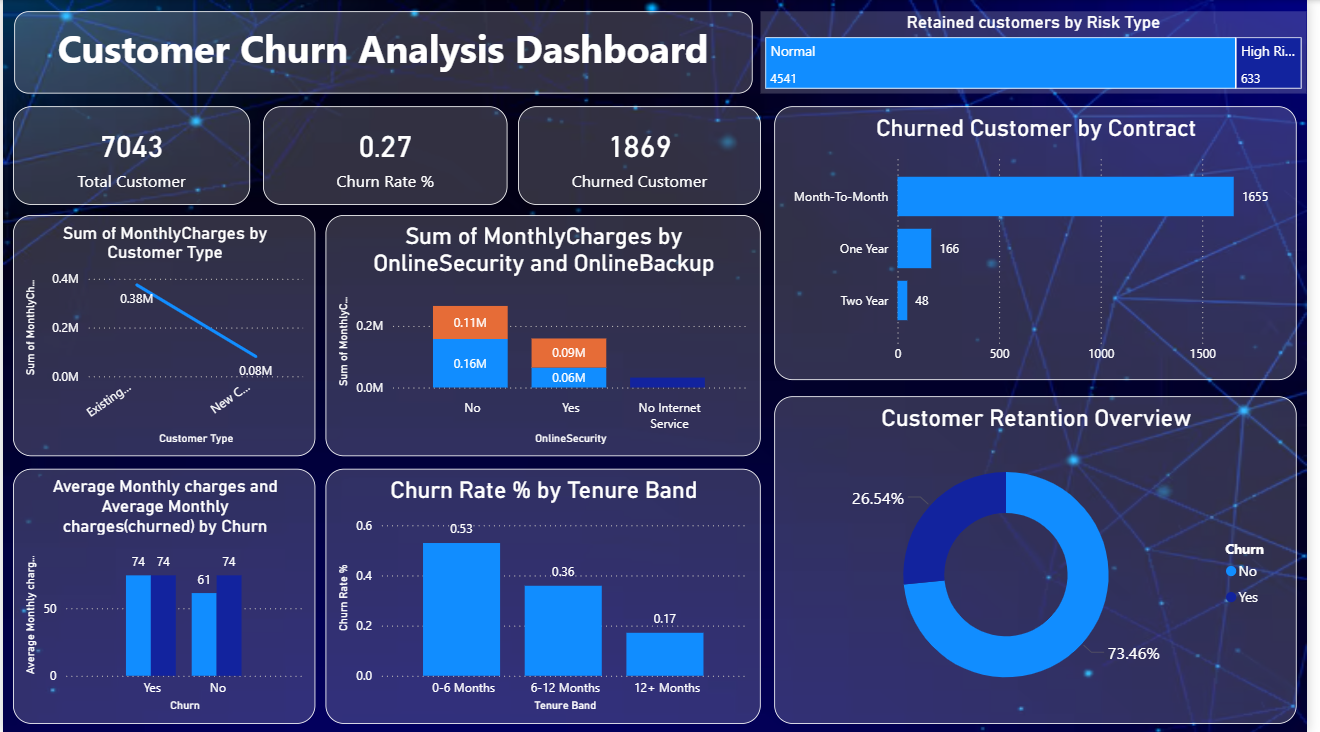

Layout of this report page (visuals, bound fields, positions):
{"tool":"powerbi","page":{"name":"Page 1","canvas":[1280,720],"ordinal":0},"visuals":[{"type":"textbox","box":[10.5,10.5,724.5,81.1],"z":0},{"type":"treemap","fields":{"Group":["telco_churn_unclean.Risk Type"],"Values":["Calculated Measure.Retaind customers"]},"box":[744.1,10.5,536.2,81.1],"z":1000},{"type":"card","fields":{"Values":["Calculated Measure.Total Customer"]},"box":[10,104.3,232.9,97.1],"z":2000},{"type":"card","fields":{"Values":["Calculated Measure.Churn Rate %"]},"box":[255.7,104.3,240,97.1],"z":3000},{"type":"card","fields":{"Values":["Calculated Measure.Churned Customer"]},"box":[505.7,104.3,238.6,97.1],"z":4000},{"type":"donutChart","title":"Customer Retantion Overview","fields":{"Category":["telco_churn_unclean.Churn"],"Y":["Calculated Measure.Total Customer"]},"box":[757.1,388.6,512.9,321.4],"z":5000},{"type":"barChart","fields":{"Category":["telco_churn_unclean.Contract"],"Y":["Calculated Measure.Churned Customer"]},"box":[757.1,104.3,512.9,268.6],"z":6000},{"type":"columnChart","fields":{"Category":["telco_churn_unclean.OnlineSecurity"],"Y":["Sum(telco_churn_unclean.MonthlyCharges)"],"Series":["telco_churn_unclean.OnlineBackup"]},"box":[317.1,211.4,427.1,237.1],"z":7000},{"type":"columnChart","fields":{"Category":["telco_churn_unclean.Tenure Band"],"Y":["Calculated Measure.Churn Rate %"]},"box":[317.1,460,427.1,250],"z":8000},{"type":"clusteredColumnChart","fields":{"Y":["Calculated Measure.Average Monthly charges","Calculated Measure.Average Monthly charges(churned)"],"Category":["telco_churn_unclean.Churn"]},"box":[10,460,297.1,250],"z":9000},{"type":"lineChart","fields":{"Category":["telco_churn_unclean.Customer Type"],"Y":["Sum(telco_churn_unclean.MonthlyCharges)"]},"box":[10,211.4,297.1,237.1],"z":10000}]}

Visuals, with their boxes in screenshot pixels (x1, y1, x2, y2), scaled from the page's 1280x720 canvas onto the 1320x732 screenshot:
textbox: box=[11, 11, 758, 93]
treemap - telco_churn_unclean.Risk Type x Calculated Measure.Retaind customers: box=[767, 11, 1319, 93]
card - Calculated Measure.Total Customer: box=[10, 106, 250, 205]
card - Calculated Measure.Churn Rate %: box=[264, 106, 511, 205]
card - Calculated Measure.Churned Customer: box=[522, 106, 768, 205]
"Customer Retantion Overview" donutChart: box=[781, 395, 1310, 722]
barChart - telco_churn_unclean.Contract x Calculated Measure.Churned Customer: box=[781, 106, 1310, 379]
columnChart - telco_churn_unclean.OnlineSecurity x Sum(telco_churn_unclean.MonthlyCharges): box=[327, 215, 767, 456]
columnChart - telco_churn_unclean.Tenure Band x Calculated Measure.Churn Rate %: box=[327, 468, 767, 722]
clusteredColumnChart - Calculated Measure.Average Monthly charges x Calculated Measure.Average Monthly charges(churned): box=[10, 468, 317, 722]
lineChart - telco_churn_unclean.Customer Type x Sum(telco_churn_unclean.MonthlyCharges): box=[10, 215, 317, 456]
